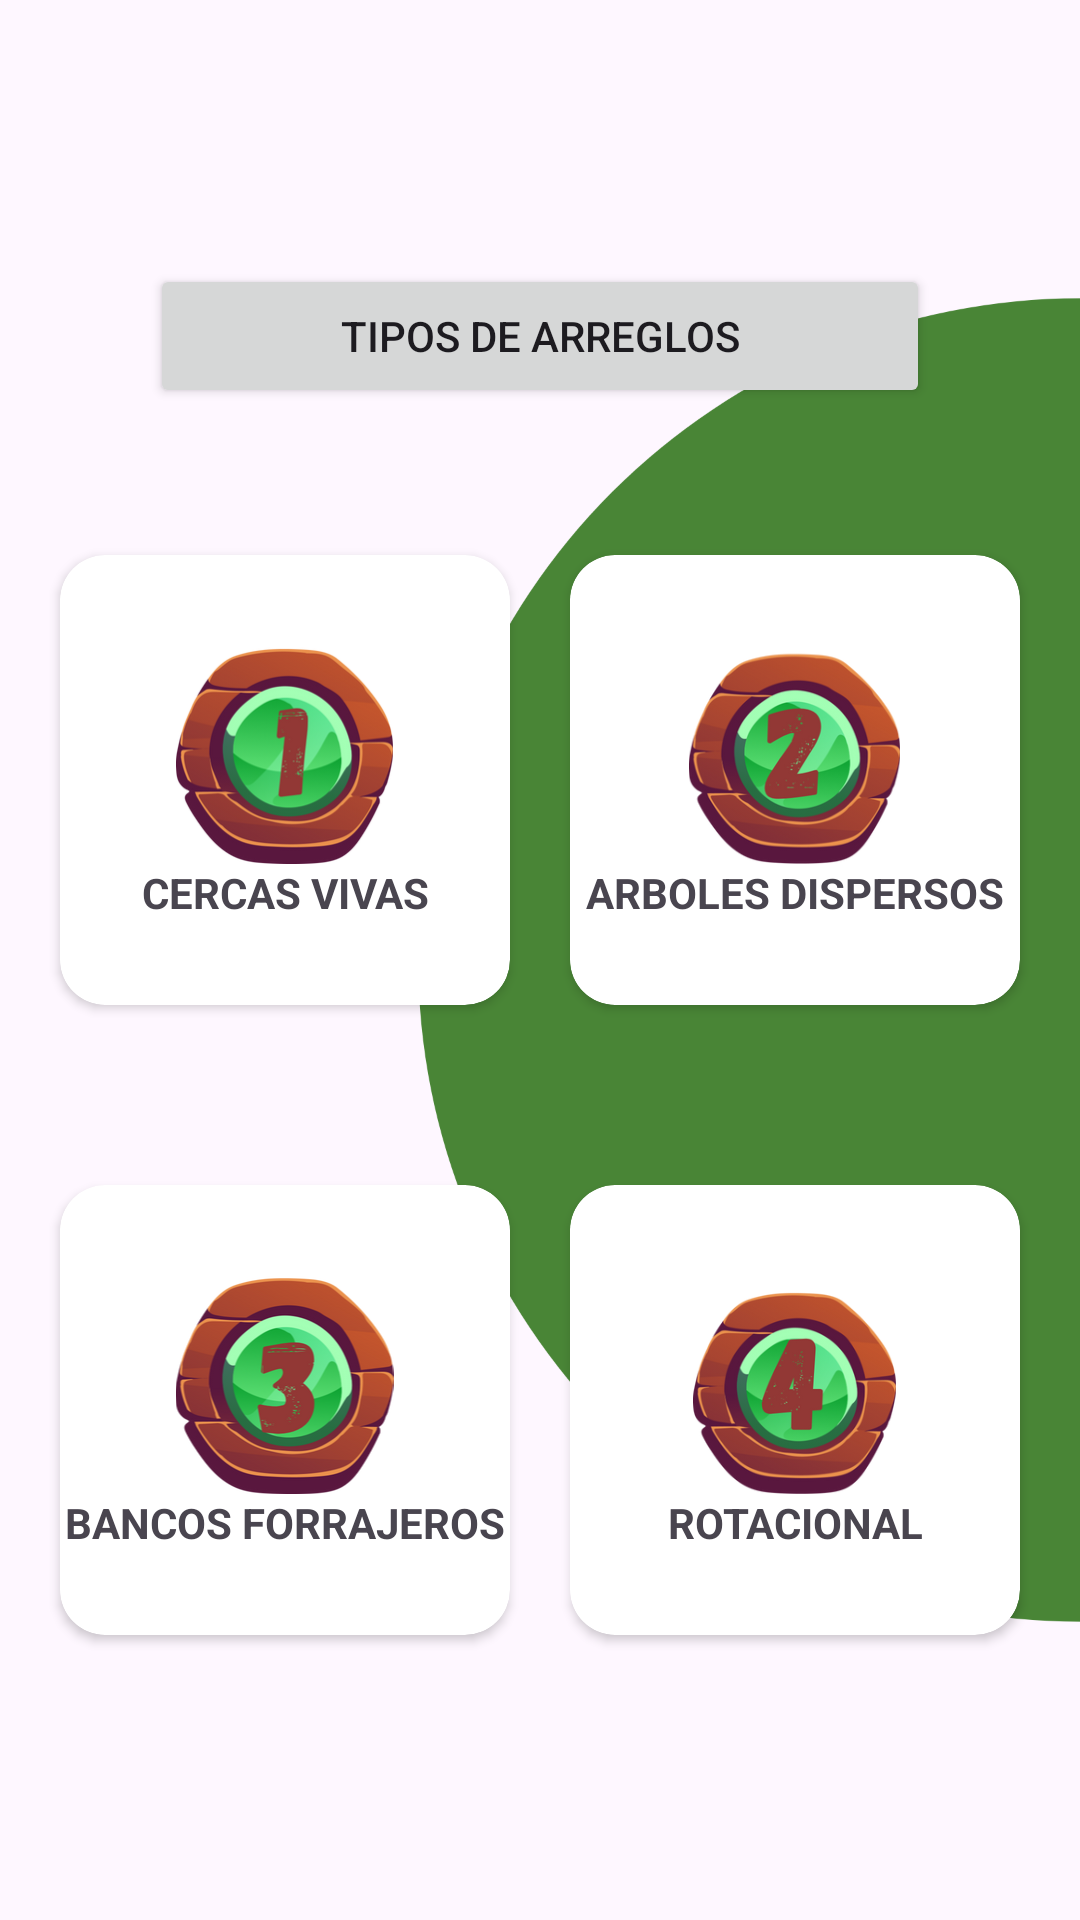

Icons on this 1080x1920 Android screen, each with its box as (x1, y1, x2, y2):
cuatro: (693, 1293, 896, 1494)
dos: (689, 653, 900, 864)
tres: (176, 1278, 394, 1494)
uno: (176, 649, 393, 864)
